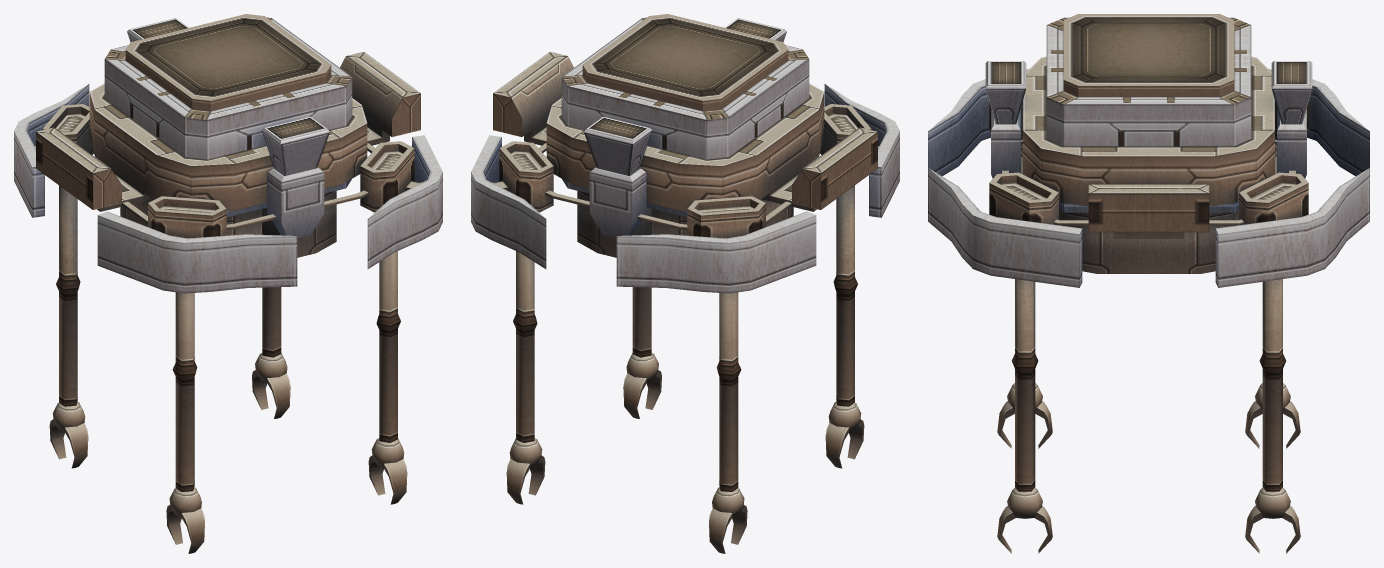
Rendered from Mach.FBX.
3 renders of one model, left to right at view 1: azimuth 30°, elevation 25°; view 2: azimuth 150°, elevation 25°; view 3: azimuth 270°, elevation 25°, orthographic. The views are drawn at different scales.
Visible parts, largest first — view 1: Mach; view 2: Mach; view 3: Mach.
Part boxes in pixels (bbox=[...]): Mach: bbox=[14, 14, 442, 553]; Mach: bbox=[471, 14, 899, 553]; Mach: bbox=[928, 14, 1369, 553].
Bounding box in the file's own units: 389 × 428 × 480.
